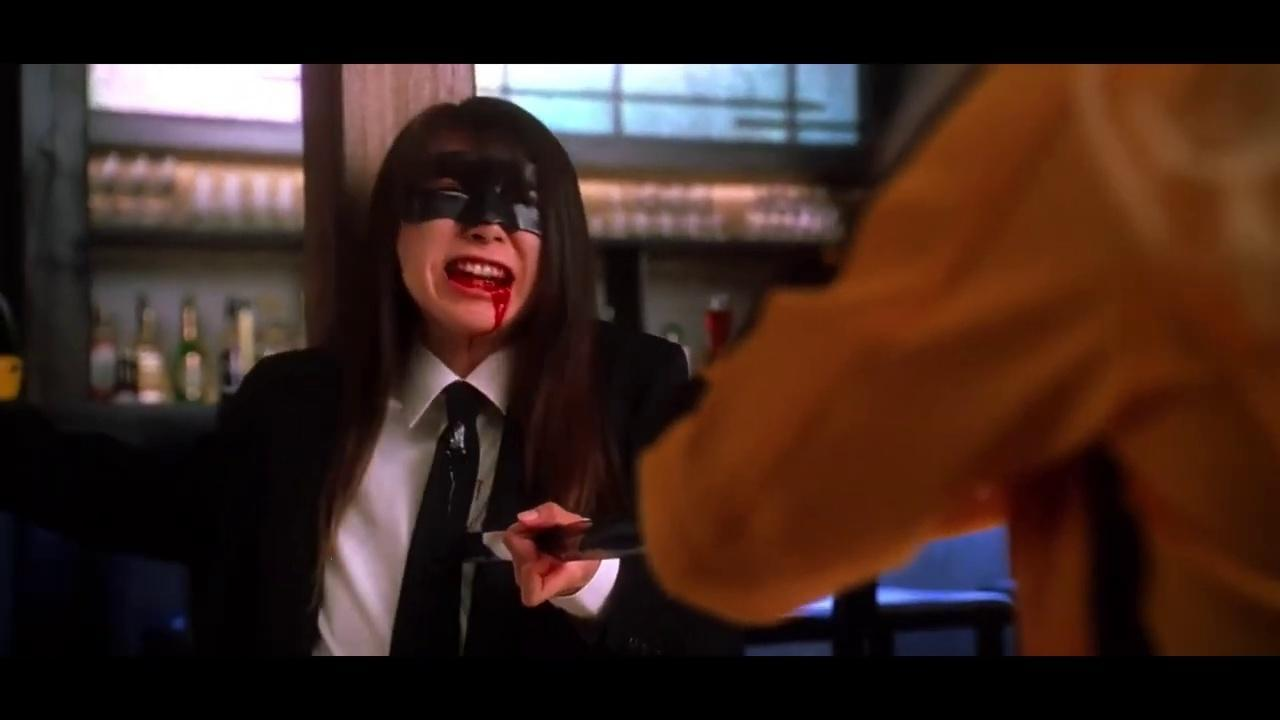Fire: (431, 261, 522, 369)
